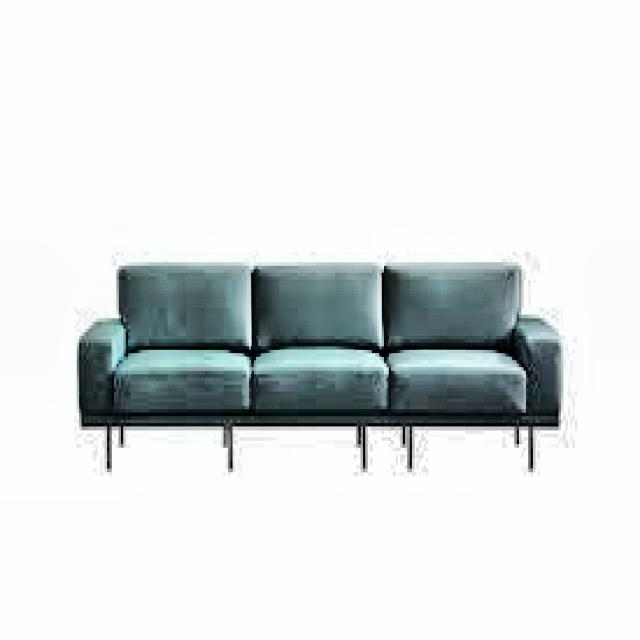sofa: (79, 266, 561, 476)
